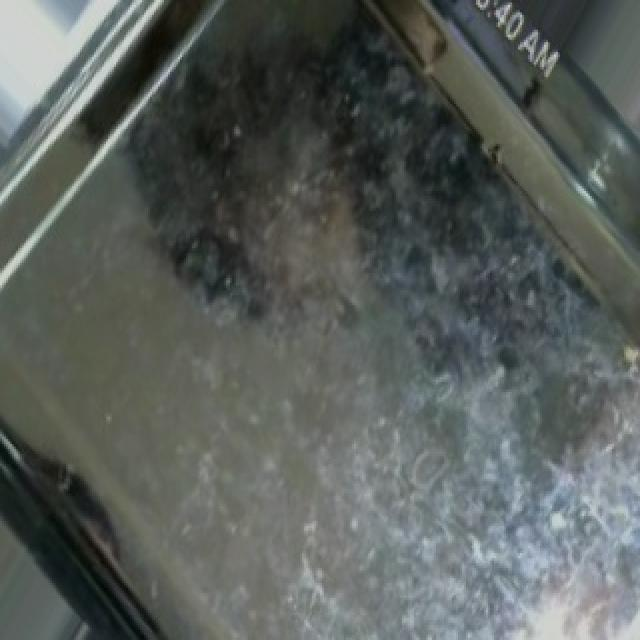Fruit: (558, 0, 640, 176)
